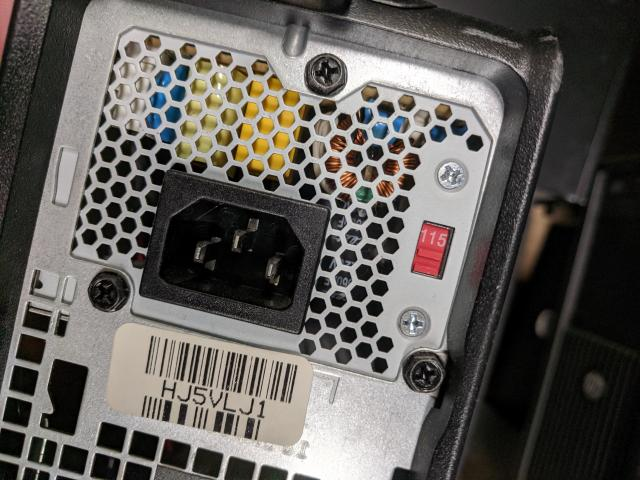CRS: (305, 53, 348, 96), (404, 352, 445, 393), (88, 270, 126, 310), (436, 158, 467, 194), (397, 306, 428, 336)
